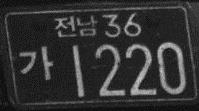0: (156, 39, 186, 95)
1: (69, 43, 87, 98)
2: (124, 42, 158, 97), (94, 42, 125, 97)
3: (101, 13, 121, 38)
6: (123, 11, 141, 38)
가: (17, 45, 54, 82)
전남_O: (53, 14, 97, 39)
